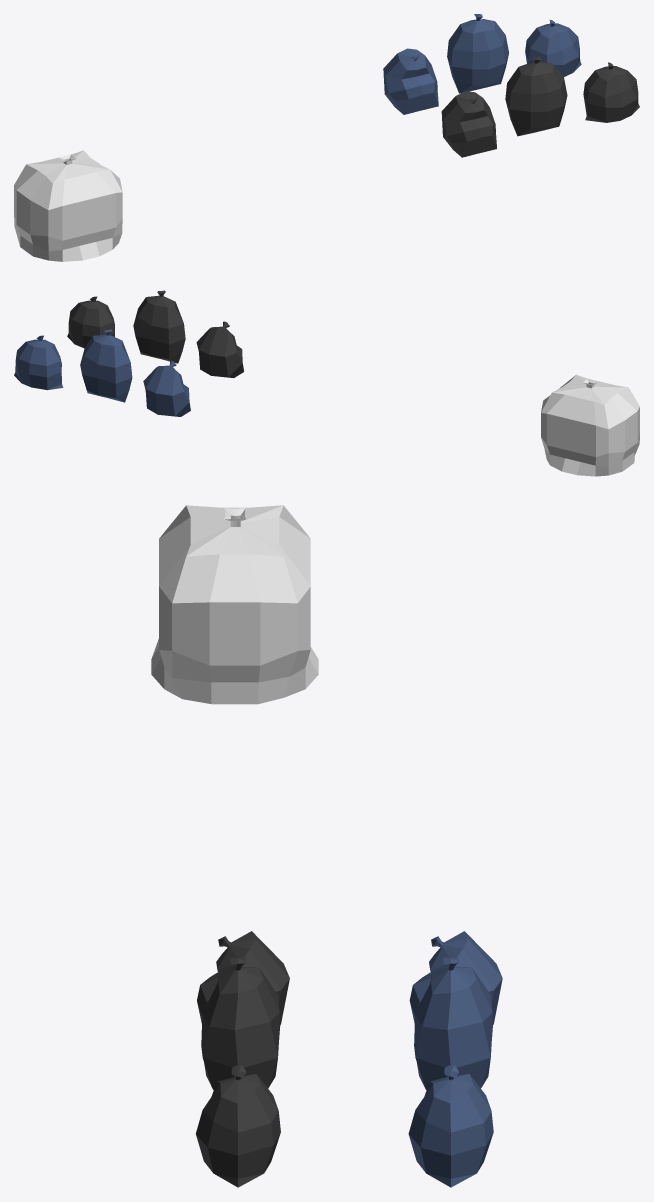
File: Sac_med_blue.fbx
The picture shows the model from 3 angles, top to bottom: view 1: azimuth 30°, elevation 25°; view 2: azimuth 150°, elevation 25°; view 3: azimuth 270°, elevation 25°; orthographic projection. The views are drawn at different scales.
Visible parts, largest first — view 1: Cube.006, Cube, Cube.005, Cube.004, Cube.001, Cube.002, Cube.003; view 2: Cube.006, Cube.005, Cube, Cube.003, Cube.001, Cube.004, Cube.002; view 3: Cube.006, Cube.005, Cube, Cube.003, Cube.002, Cube.001, Cube.004.
Boxes of the visible parts, bbox=[...] form: Cube.006: bbox=[14, 150, 122, 261]; Cube: bbox=[505, 56, 567, 136]; Cube.005: bbox=[447, 14, 508, 93]; Cube.004: bbox=[383, 48, 438, 114]; Cube.001: bbox=[441, 91, 496, 157]; Cube.002: bbox=[583, 62, 639, 122]; Cube.003: bbox=[525, 20, 581, 76]; Cube.006: bbox=[541, 374, 639, 476]; Cube.005: bbox=[80, 329, 132, 402]; Cube: bbox=[133, 290, 185, 363]; Cube.003: bbox=[14, 335, 63, 390]; Cube.001: bbox=[196, 321, 243, 378]; Cube.004: bbox=[143, 360, 190, 416]; Cube.002: bbox=[67, 296, 114, 348]; Cube.006: bbox=[151, 505, 318, 704]; Cube.005: bbox=[414, 957, 492, 1089]; Cube: bbox=[201, 957, 280, 1089]; Cube.003: bbox=[408, 1065, 493, 1187]; Cube.002: bbox=[196, 1065, 280, 1187]; Cube.001: bbox=[197, 931, 289, 1024]; Cube.004: bbox=[409, 931, 502, 1024].
Size of the model in its own units: 702 by 97.31 by 190.
